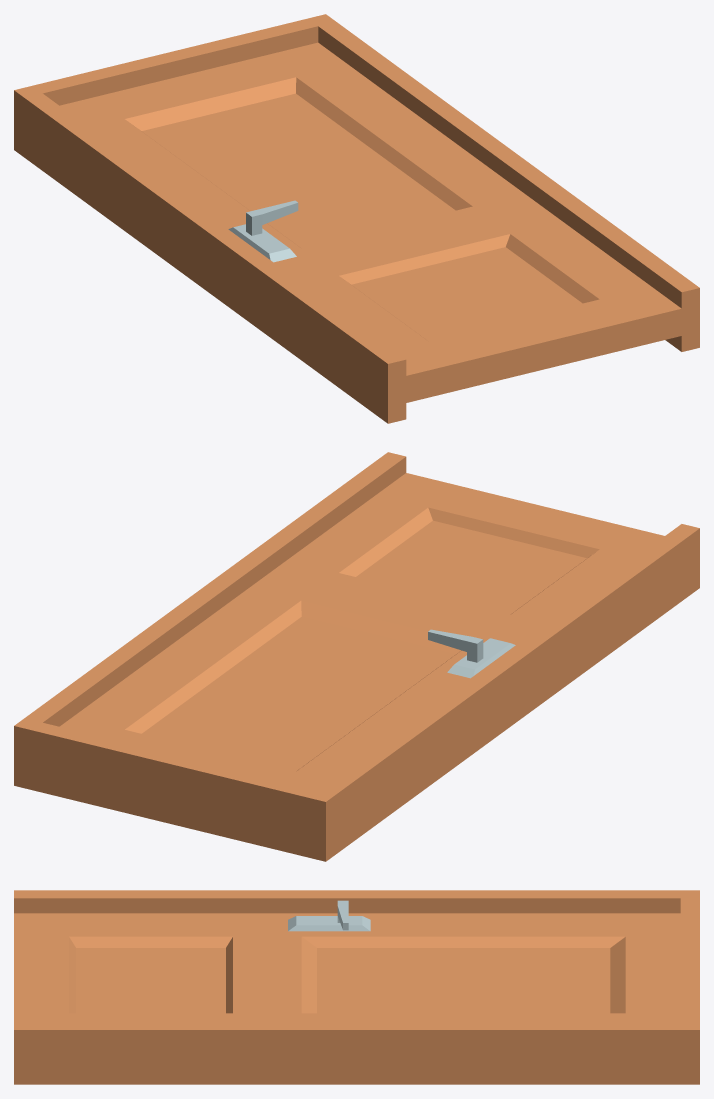
The model's file is darwaza Doorway.fbx.
3 views of the same model, one above another, from view 1: azimuth 30°, elevation 25°; view 2: azimuth 150°, elevation 25°; view 3: azimuth 270°, elevation 25° (orthographic). The views are drawn at different scales.
Visible parts, largest first — view 1: imagetostl_mesh2, imagetostl_mesh0, imagetostl_mesh3; view 2: imagetostl_mesh2, imagetostl_mesh0, imagetostl_mesh3; view 3: imagetostl_mesh2, imagetostl_mesh0, imagetostl_mesh3.
Boxes of the visible parts, <box> form: imagetostl_mesh2: <box>60,42,681,402</box>; imagetostl_mesh0: <box>14,14,699,423</box>; imagetostl_mesh3: <box>228,200,298,262</box>; imagetostl_mesh2: <box>59,473,664,789</box>; imagetostl_mesh0: <box>14,452,699,861</box>; imagetostl_mesh3: <box>428,629,515,678</box>; imagetostl_mesh2: <box>14,913,680,1021</box>; imagetostl_mesh0: <box>14,890,699,1084</box>; imagetostl_mesh3: <box>288,900,370,931</box>.
Bounding box in the file's own units: 48.6 × 11.34 × 101.
